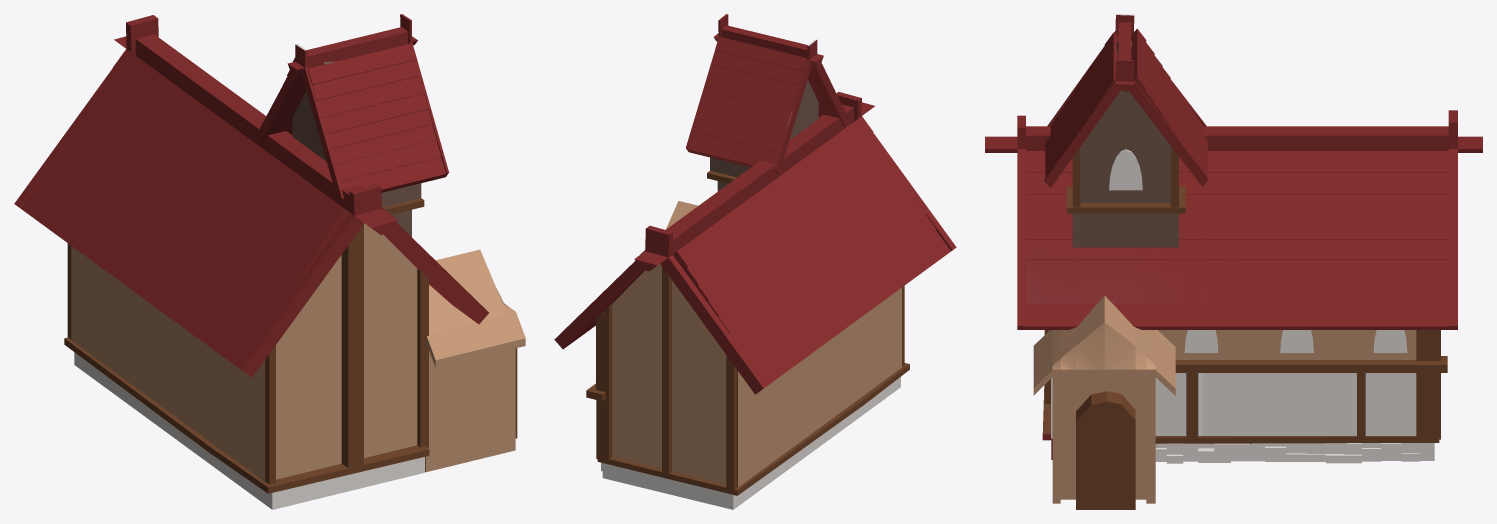
The model's file is house_2_fbx.fbx.
3 views of the same model, side by side, from view 1: azimuth 30°, elevation 25°; view 2: azimuth 150°, elevation 25°; view 3: azimuth 270°, elevation 25° (orthographic). The views are drawn at different scales.
Visible parts, largest first — view 1: house_2; view 2: house_2; view 3: house_2.
Part boxes in pixels (x1,y1,x2,y2): house_2: [14, 14, 525, 509]; house_2: [554, 14, 956, 509]; house_2: [985, 14, 1482, 509].
Bounding box in the file's own units: 446 × 590 × 650.
1 material, 1 textured.
